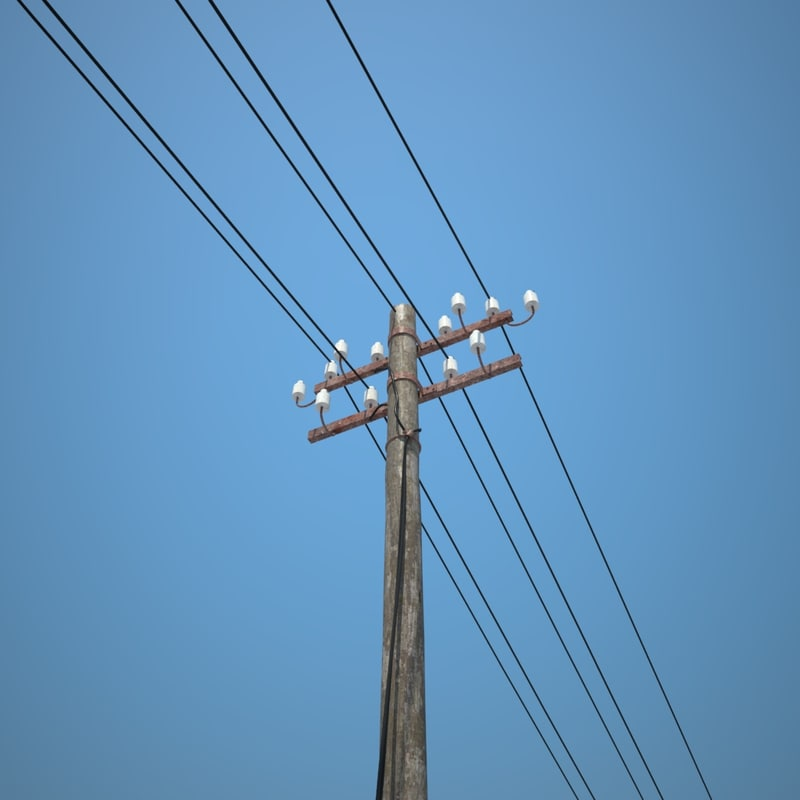utility_pole: (260, 262, 552, 527)
